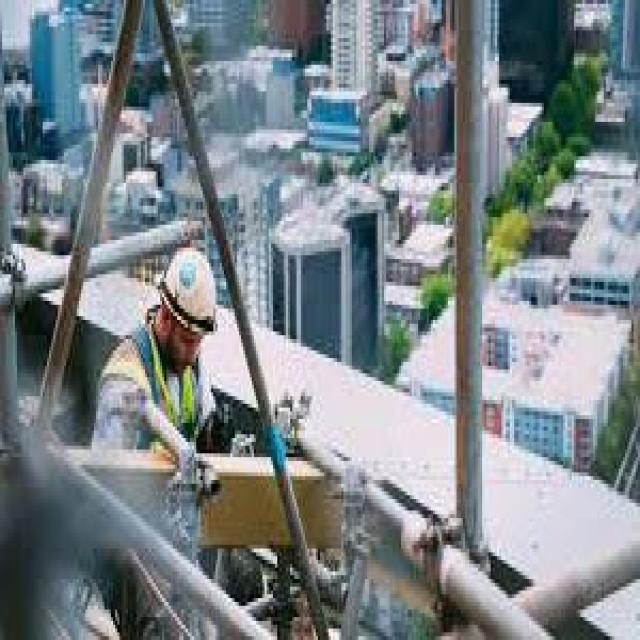Reflective-Jacket: (83, 316, 211, 484)
Safety-Helmet: (154, 232, 224, 350)
